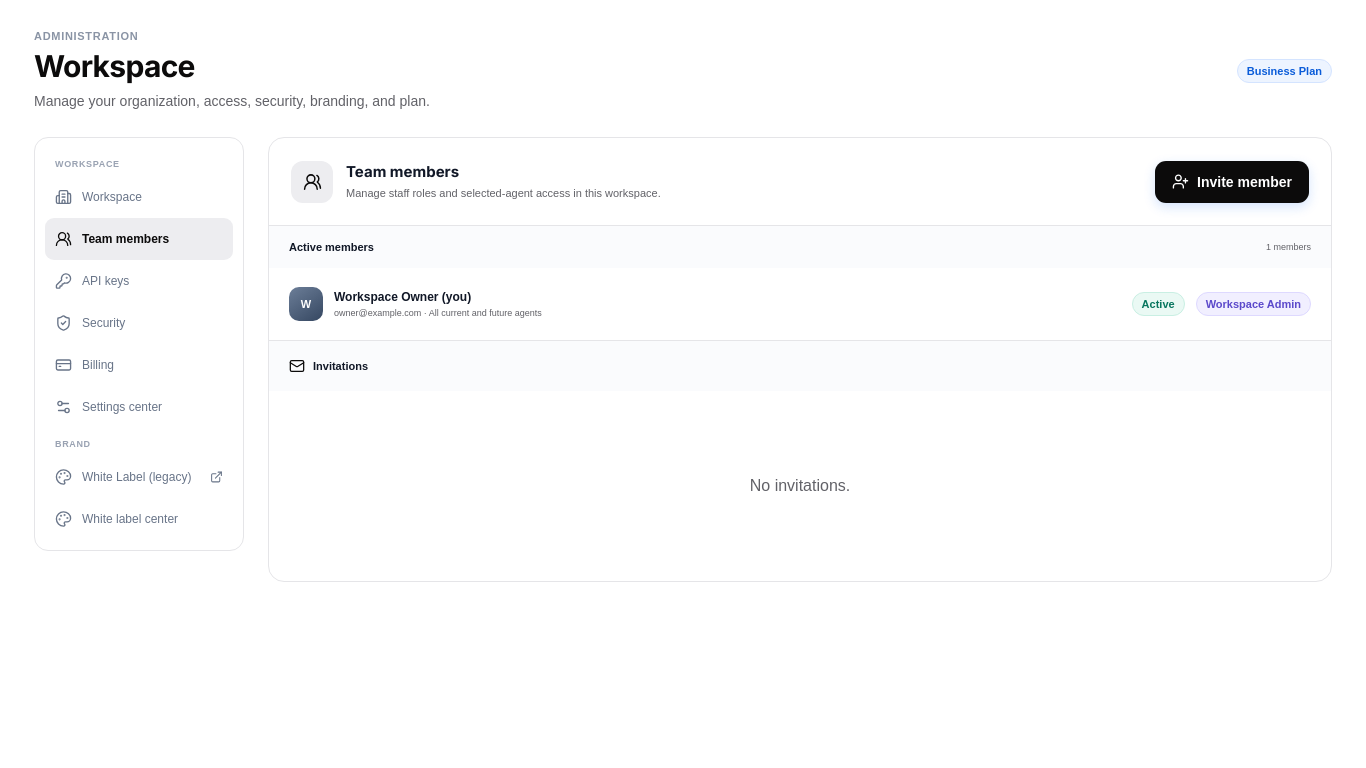
Test case: Workspace team section › loads the server team and sends invitations through the workspace API
Check: the text "Workspace Owner (you)" is shown, box [334,290,471,304]
Click the button "Invite member".
click(1232, 182)  # box [1155,161,1309,203]
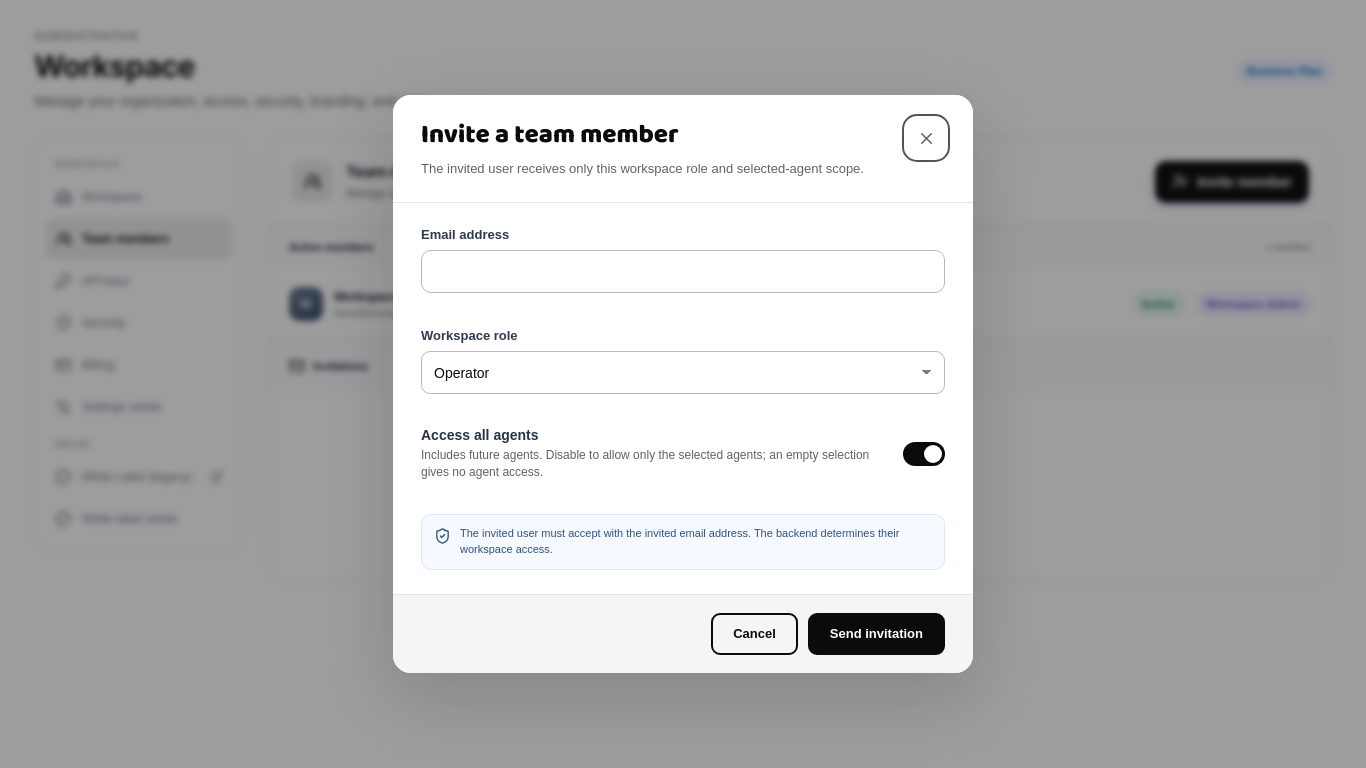
Type "ANALYST@EXAMPLE.COM" into the field labelled "Email address".
click(683, 272); type("ANALYST@EXAMPLE.COM")  # box [421,250,945,293]
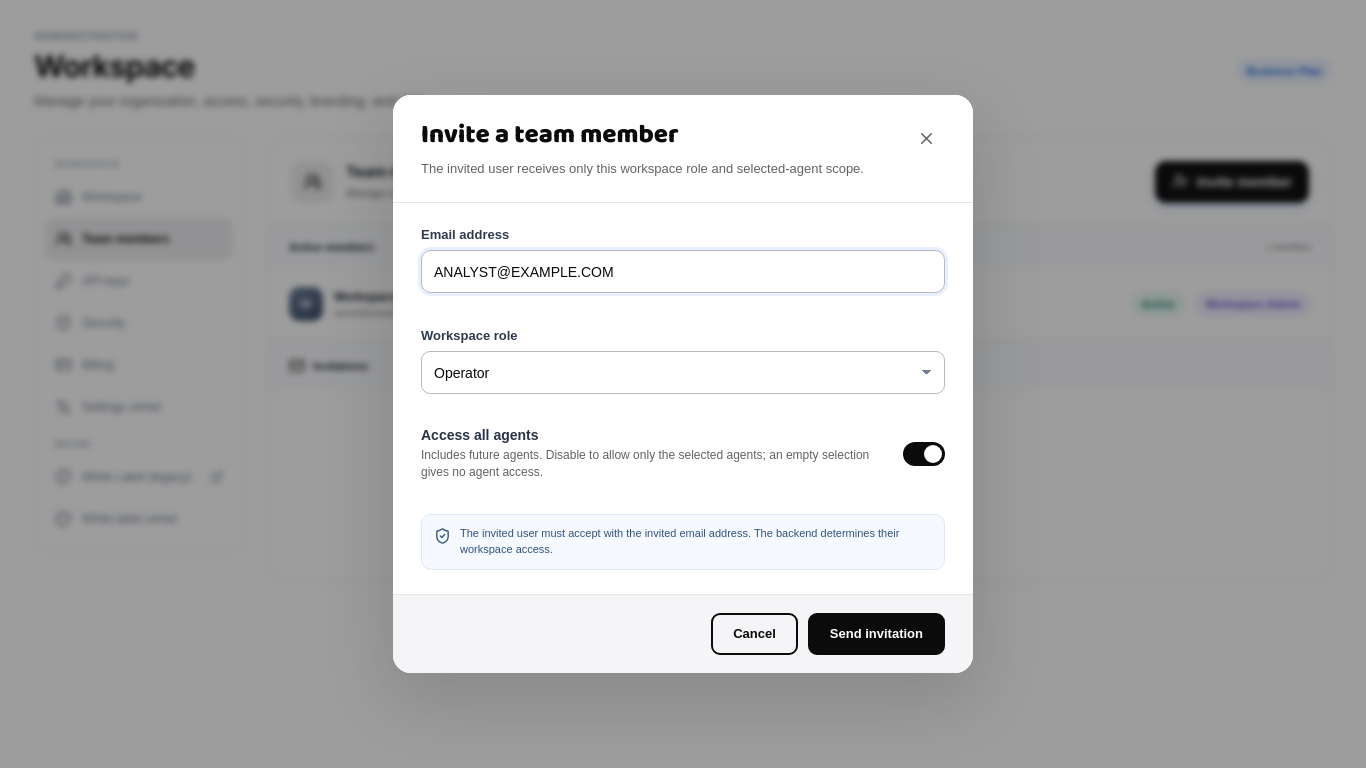
Select "Analyst" in the dropdown labelled "Workspace role" at (683, 373), box [421,351,945,394]
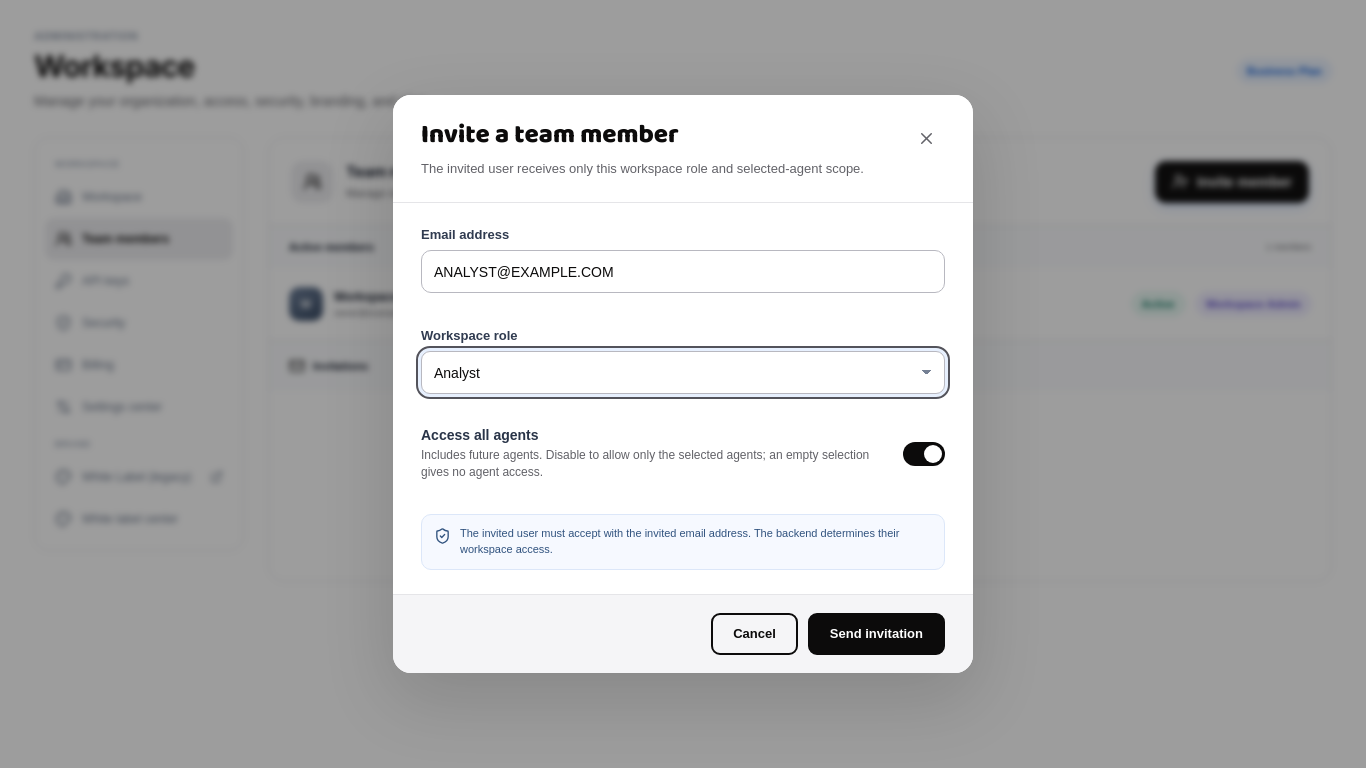
Click the button "Send invitation".
click(876, 634)  # box [808,613,945,655]
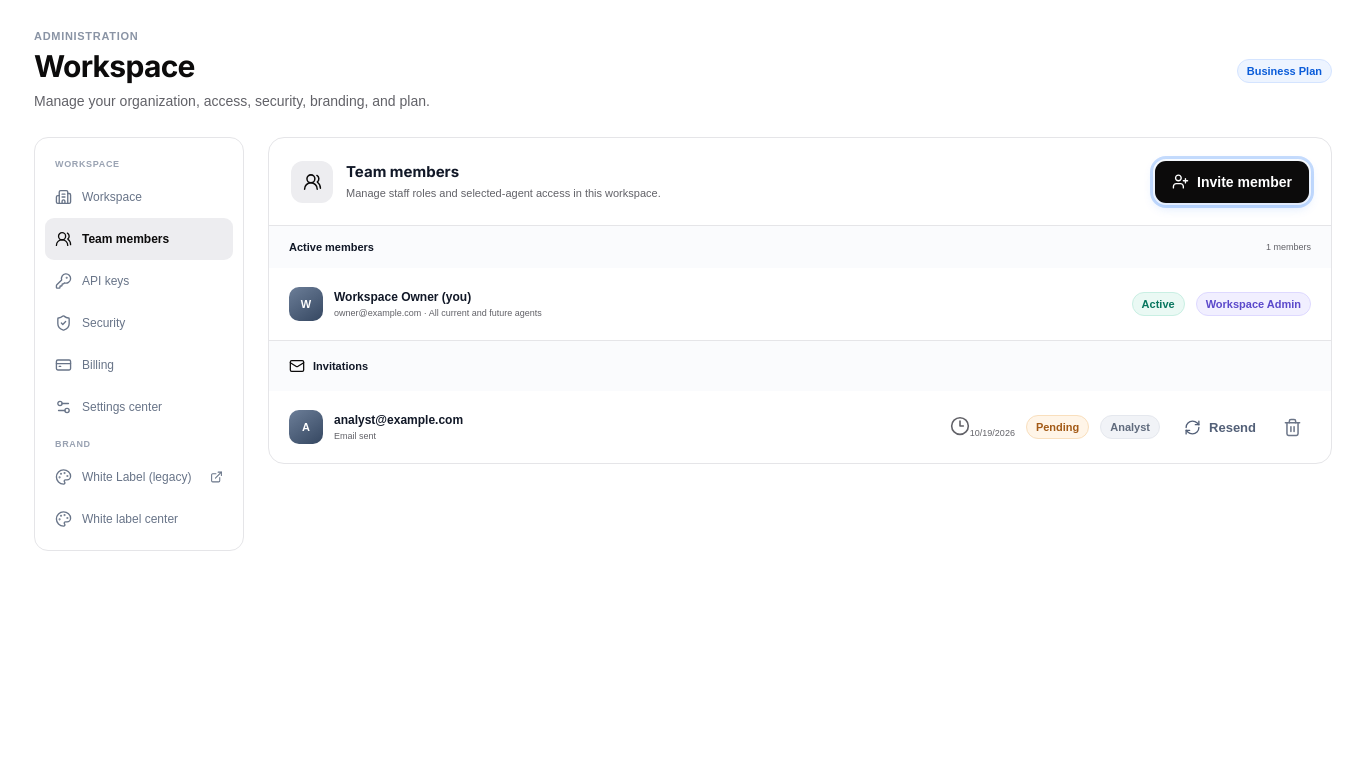
Check: the text "analyst@example.com" is shown, box [334,413,463,427]
